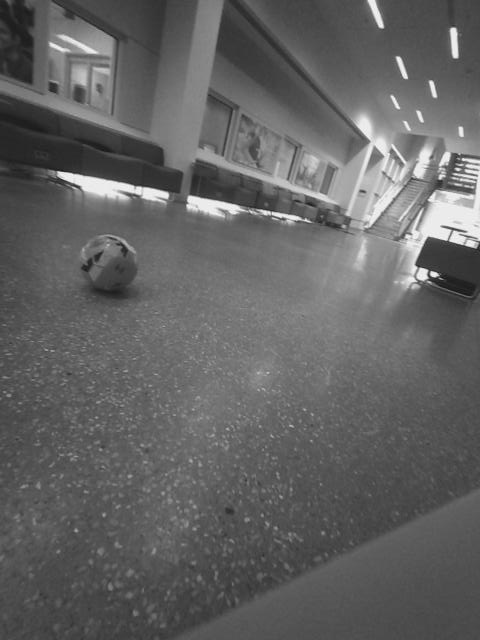ball: (70, 229, 147, 297)
